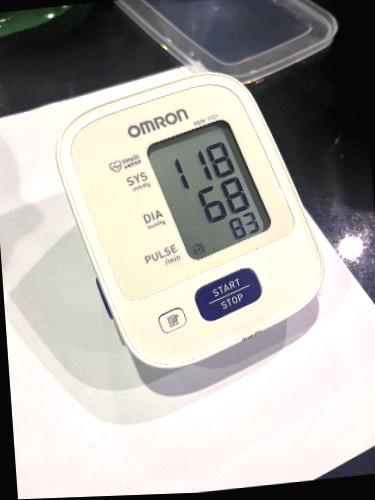bpm: (141, 111, 278, 265)
